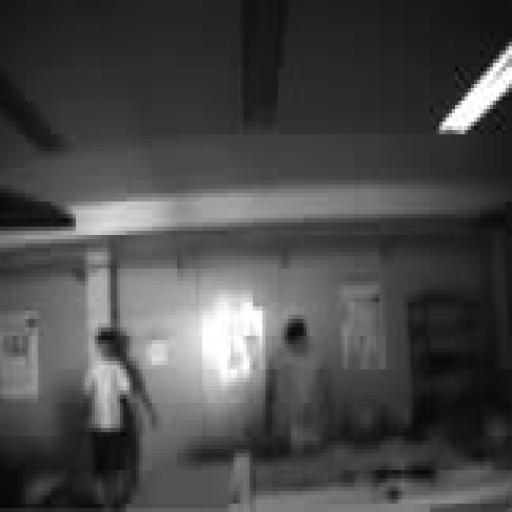human: (76, 325, 134, 511), (275, 319, 322, 453)
